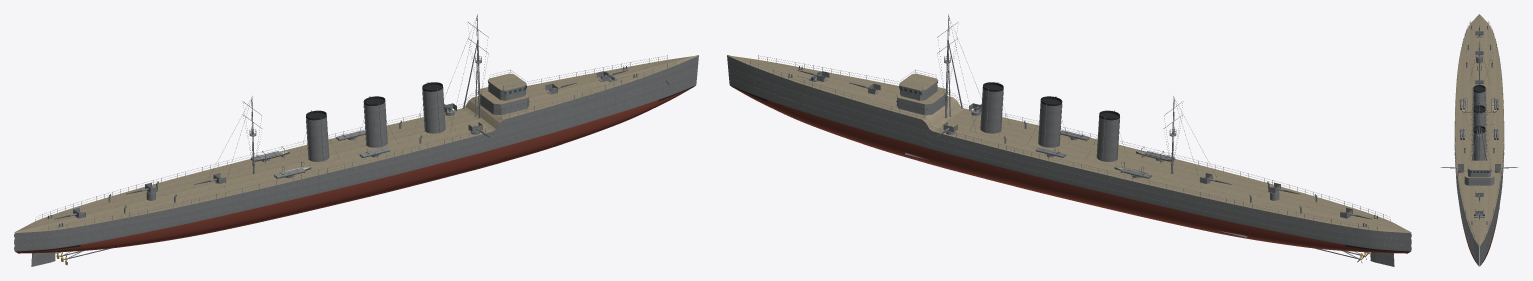
The model's file is nagara.glb.
3 renders of one model, left to right at view 1: azimuth 30°, elevation 25°; view 2: azimuth 150°, elevation 25°; view 3: azimuth 270°, elevation 25°, orthographic. The views are drawn at different scales.
Visible parts, largest first — view 1: Nagara class; view 2: Nagara class; view 3: Nagara class.
Boxes of the visible parts, box(x1,y1,x2,y2) form: Nagara class: box(14, 14, 698, 266); Nagara class: box(727, 14, 1411, 266); Nagara class: box(1440, 14, 1518, 266).
Size of the model in its own units: 163 by 33.18 by 22.59.
Materials: 8 (2 with a texture image).
